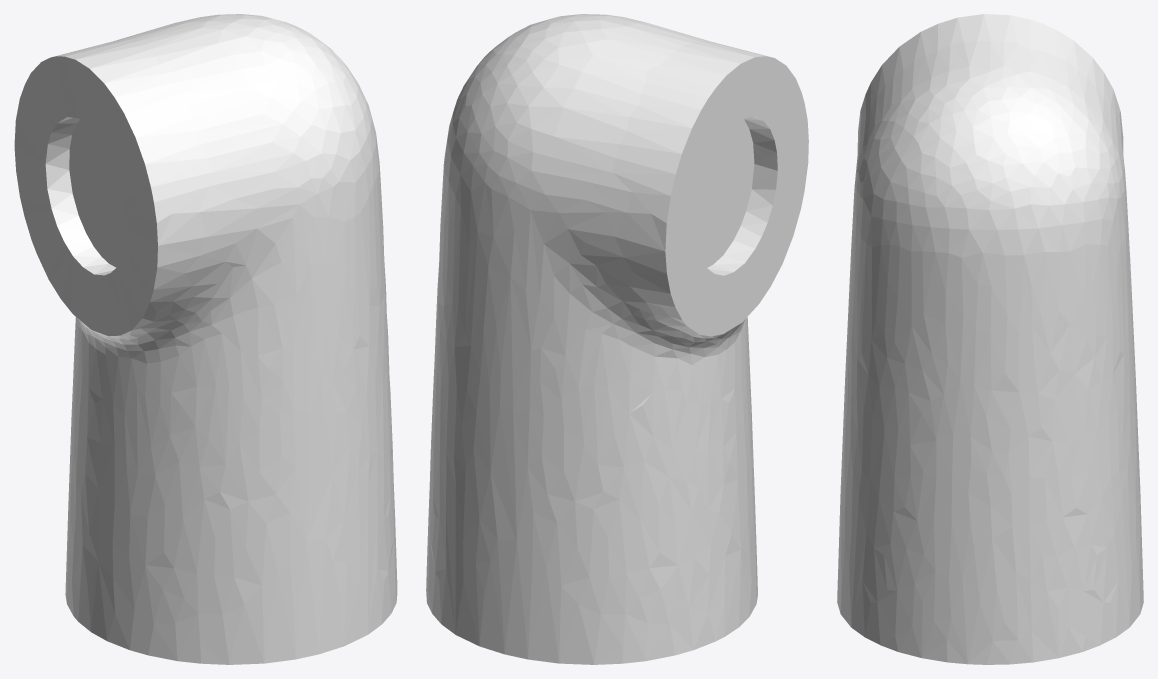
File: j2ndarm.dae
3 renders of one model, left to right at view 1: azimuth 30°, elevation 25°; view 2: azimuth 150°, elevation 25°; view 3: azimuth 270°, elevation 25°, orthographic. The views are drawn at different scales.
Visible parts, largest first — view 1: tmp_export_j2ndarm; view 2: tmp_export_j2ndarm; view 3: tmp_export_j2ndarm.
Part boxes in pixels (left/top/right/bottom): tmp_export_j2ndarm: left=14, top=14, right=397, bottom=664; tmp_export_j2ndarm: left=426, top=14, right=808, bottom=664; tmp_export_j2ndarm: left=837, top=14, right=1143, bottom=664.
Bounding box in the file's own units: 0.0617 × 0.0614 × 0.1218.
1 material, 1 textured.
